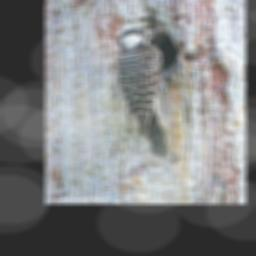Woodpecker: (113, 24, 170, 158)
